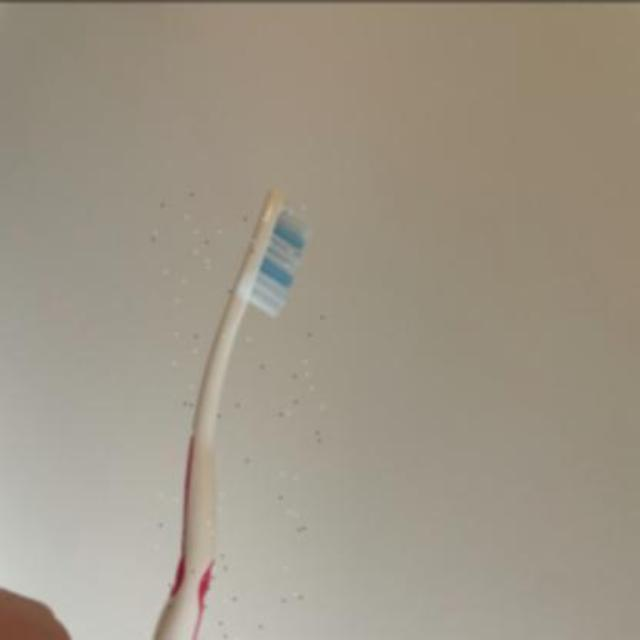toothbrush: (145, 178, 323, 640)
